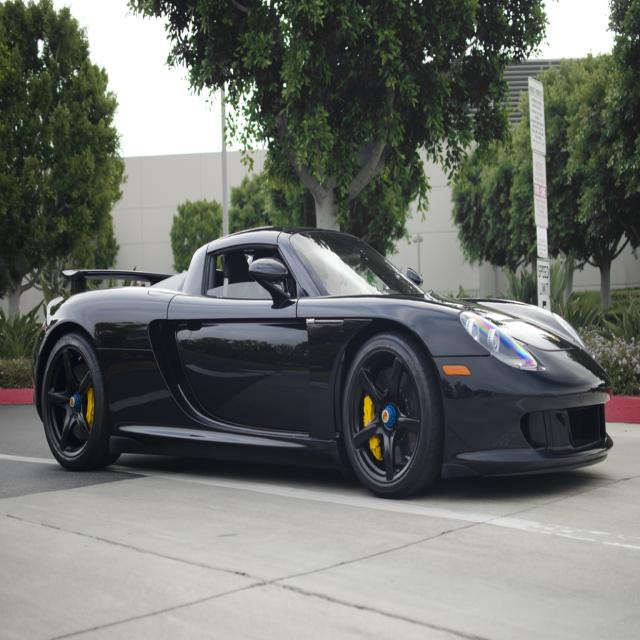car: (28, 226, 617, 498)
